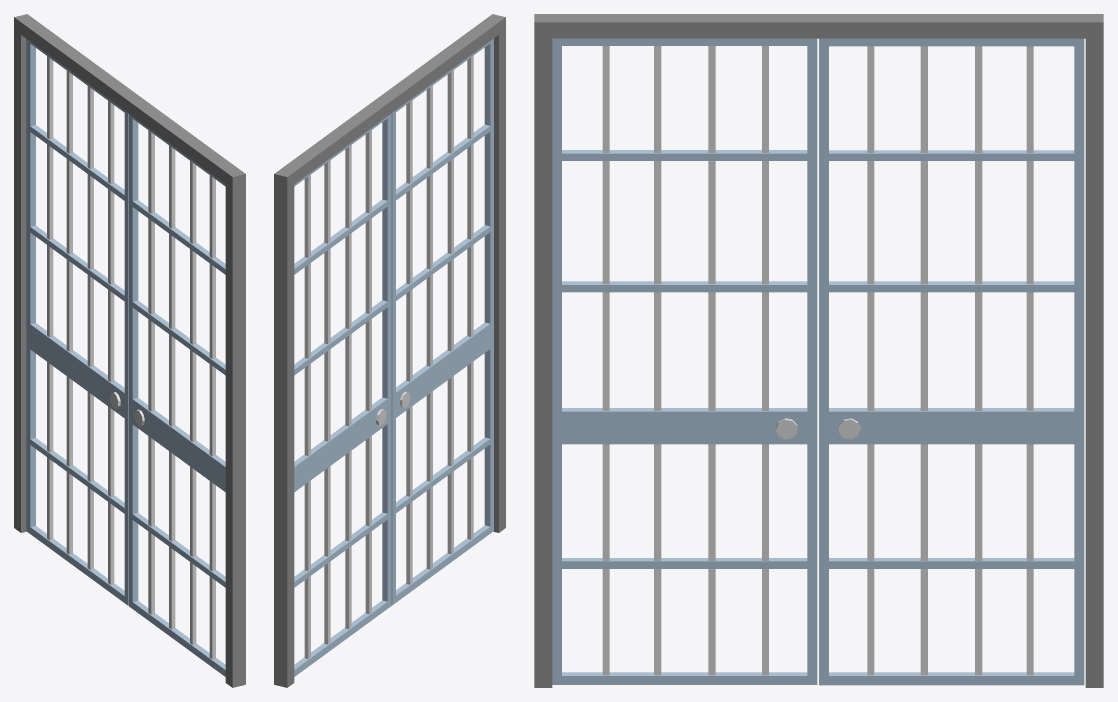
File: DoorGrating2.fbx
3 views of the same model, side by side, from view 1: azimuth 30°, elevation 25°; view 2: azimuth 150°, elevation 25°; view 3: azimuth 270°, elevation 25° (orthographic). The views are drawn at different scales.
Visible parts, largest first — view 1: DoorGrating2.1, DoorGrating2.2, DoorGratingFrame2; view 2: DoorGrating2.2, DoorGrating2.1, DoorGratingFrame2; view 3: DoorGrating2.1, DoorGrating2.2, DoorGratingFrame2.
Part boxes in pixels (<box>): DoorGrating2.1: <box>26,39,128,605</box>; DoorGrating2.2: <box>129,114,225,676</box>; DoorGratingFrame2: <box>14,14,245,687</box>; DoorGrating2.2: <box>391,38,493,605</box>; DoorGrating2.1: <box>294,113,391,676</box>; DoorGratingFrame2: <box>274,14,505,687</box>; DoorGrating2.1: <box>819,38,1084,685</box>; DoorGrating2.2: <box>552,38,817,684</box>; DoorGratingFrame2: <box>534,14,1103,687</box>.
Size of the model in its own units: 15.23 by 563 by 437.
